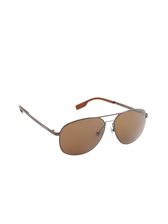glasses: (12, 95, 151, 157)
